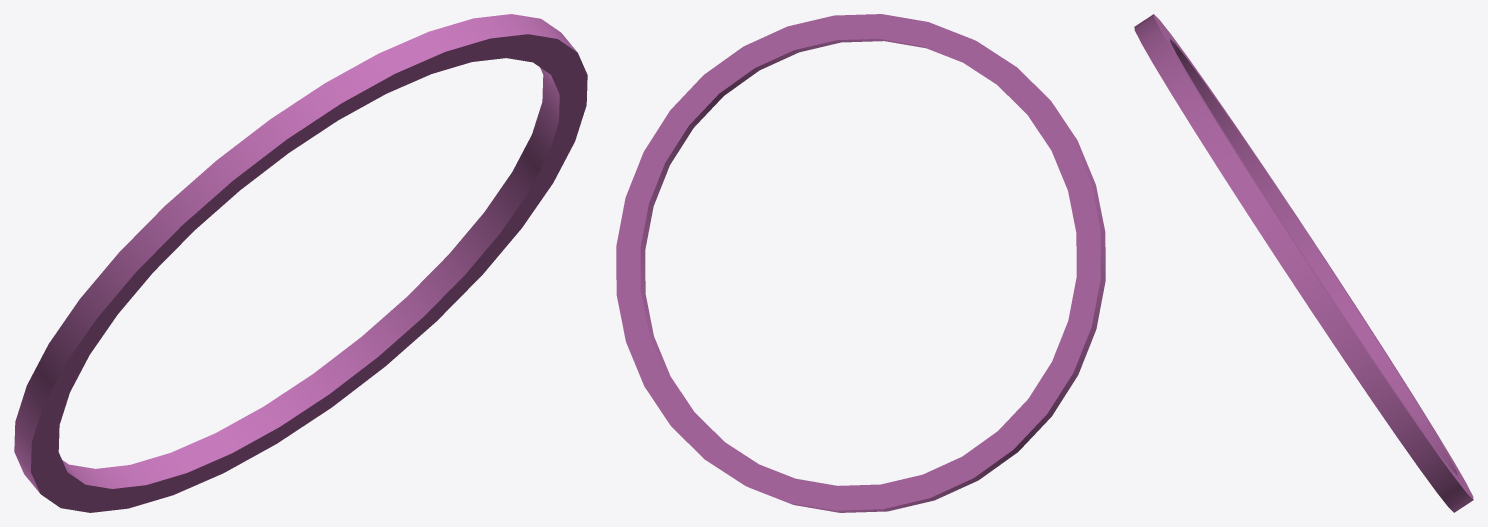
The model's file is Ring_1.glb.
3 views of the same model, side by side, from view 1: azimuth 30°, elevation 25°; view 2: azimuth 150°, elevation 25°; view 3: azimuth 270°, elevation 25° (orthographic). The views are drawn at different scales.
Visible parts, largest first — view 1: Ring_1; view 2: Ring_1; view 3: Ring_1.
Boxes of the visible parts, x1,y1,x2,y2 form: Ring_1: [14, 14, 587, 512]; Ring_1: [616, 14, 1105, 512]; Ring_1: [1134, 14, 1473, 512].
Size of the model in its own units: 4.93 by 4.39 by 2.91.
